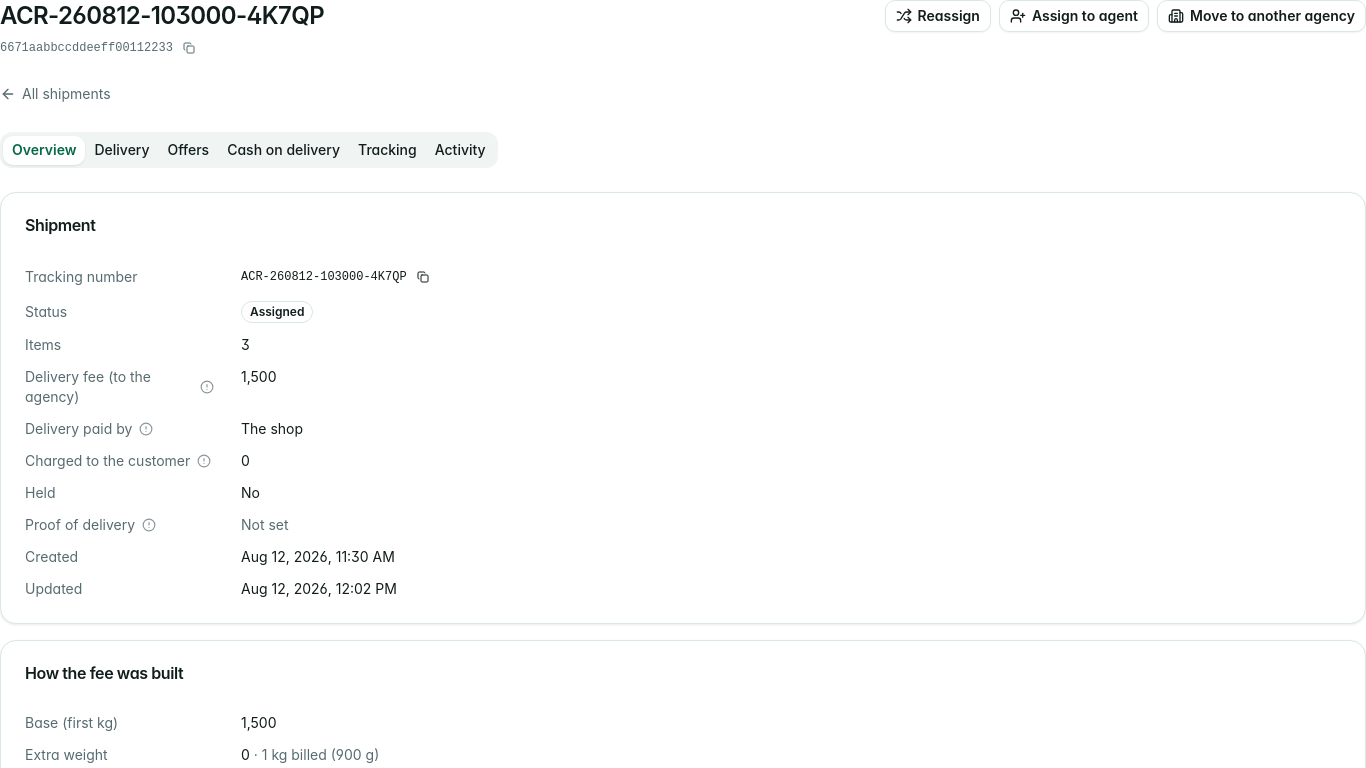
move to another agency › offers "Push anyway" on an inactive destination and sends force: true
Click the button "Move to another agency" at (1262,16), box [1157,0,1365,32]
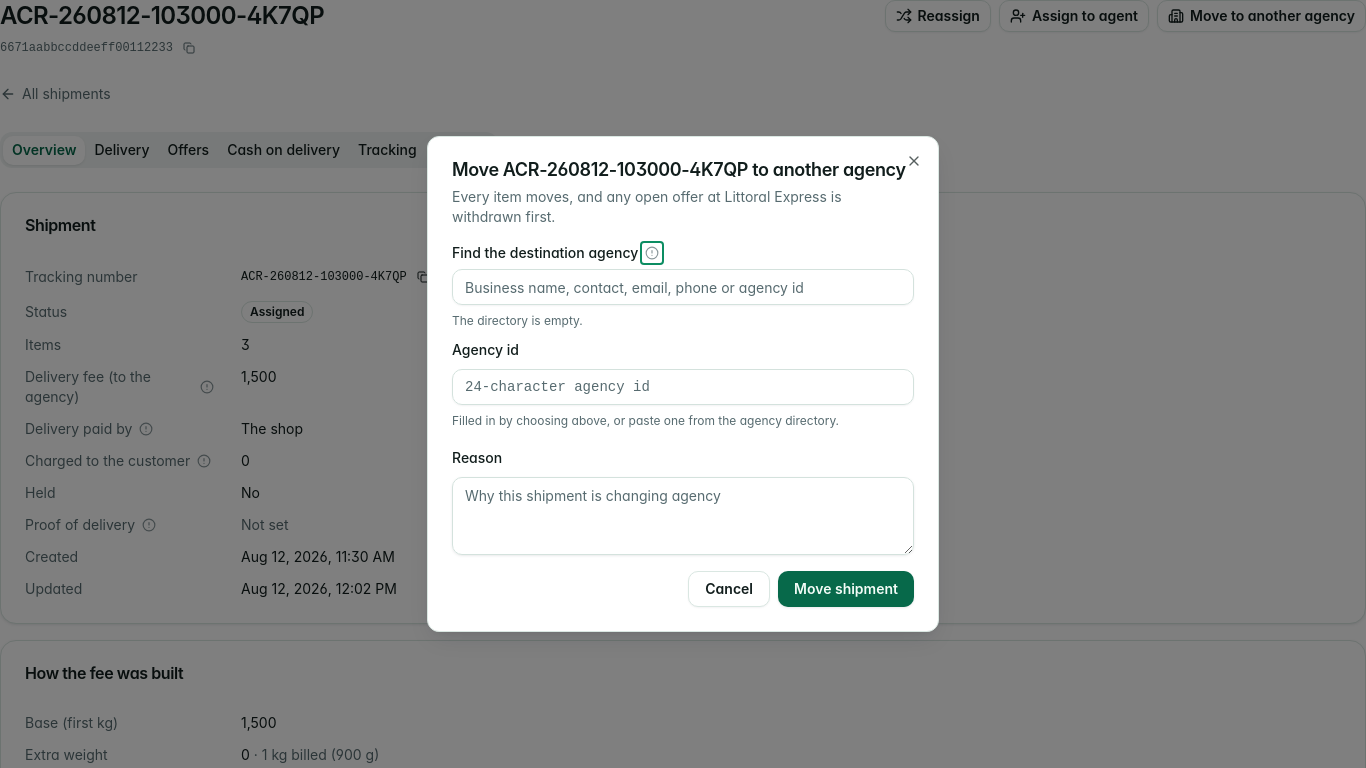
Type "665c0011223344556677eeee" into the field labelled "Agency id" at (683,387), box [452,369,914,405]
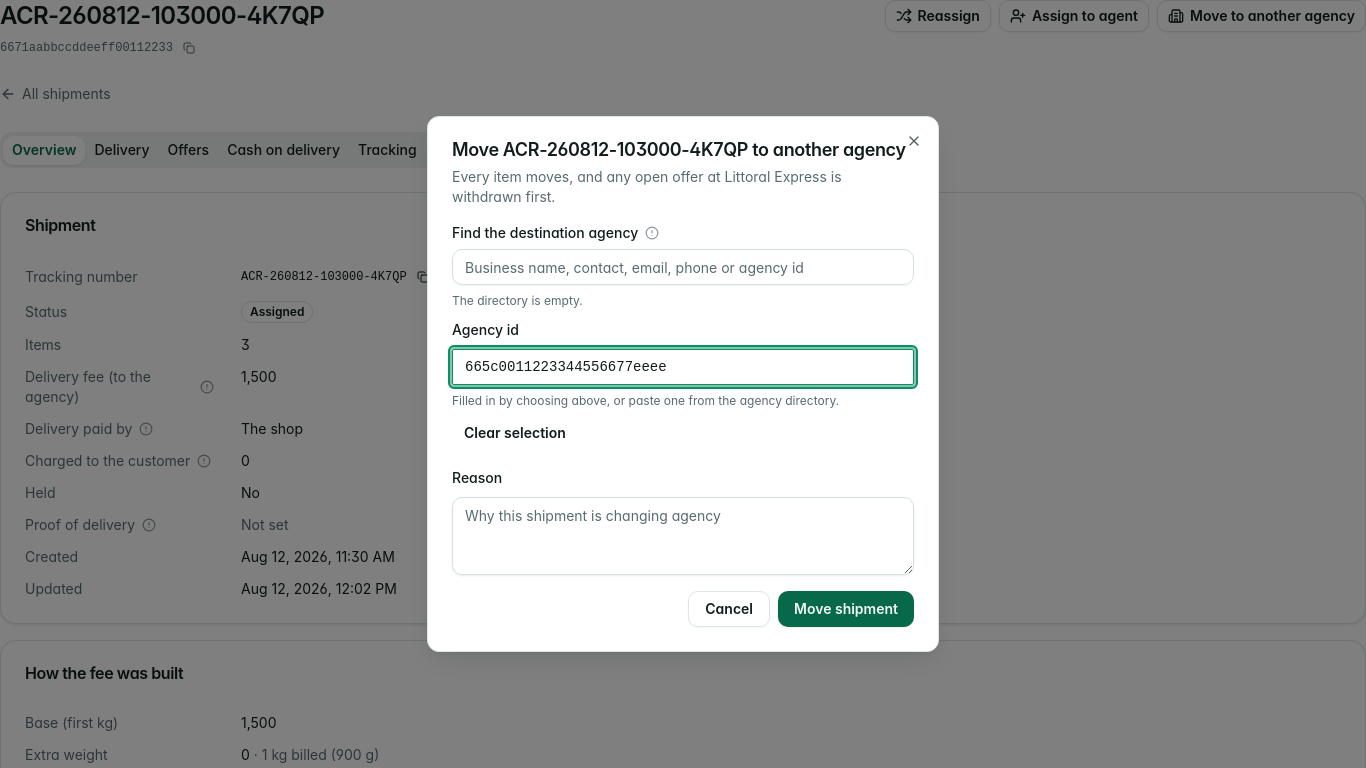
Type "Agency suspended in this city" into the text box labelled "Reason" at (683,536), box [452,497,914,575]
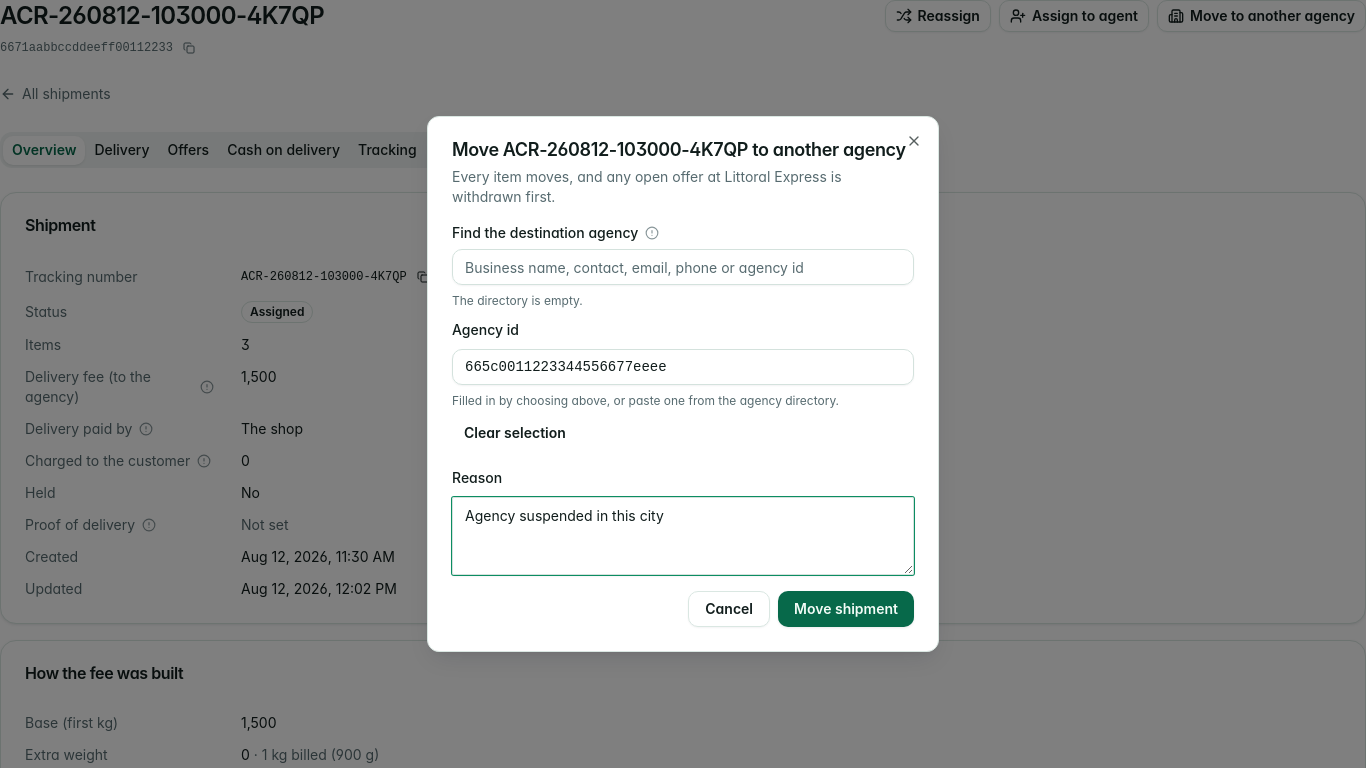
Click the button "Move shipment" at (846,609), box [778,591,914,627]
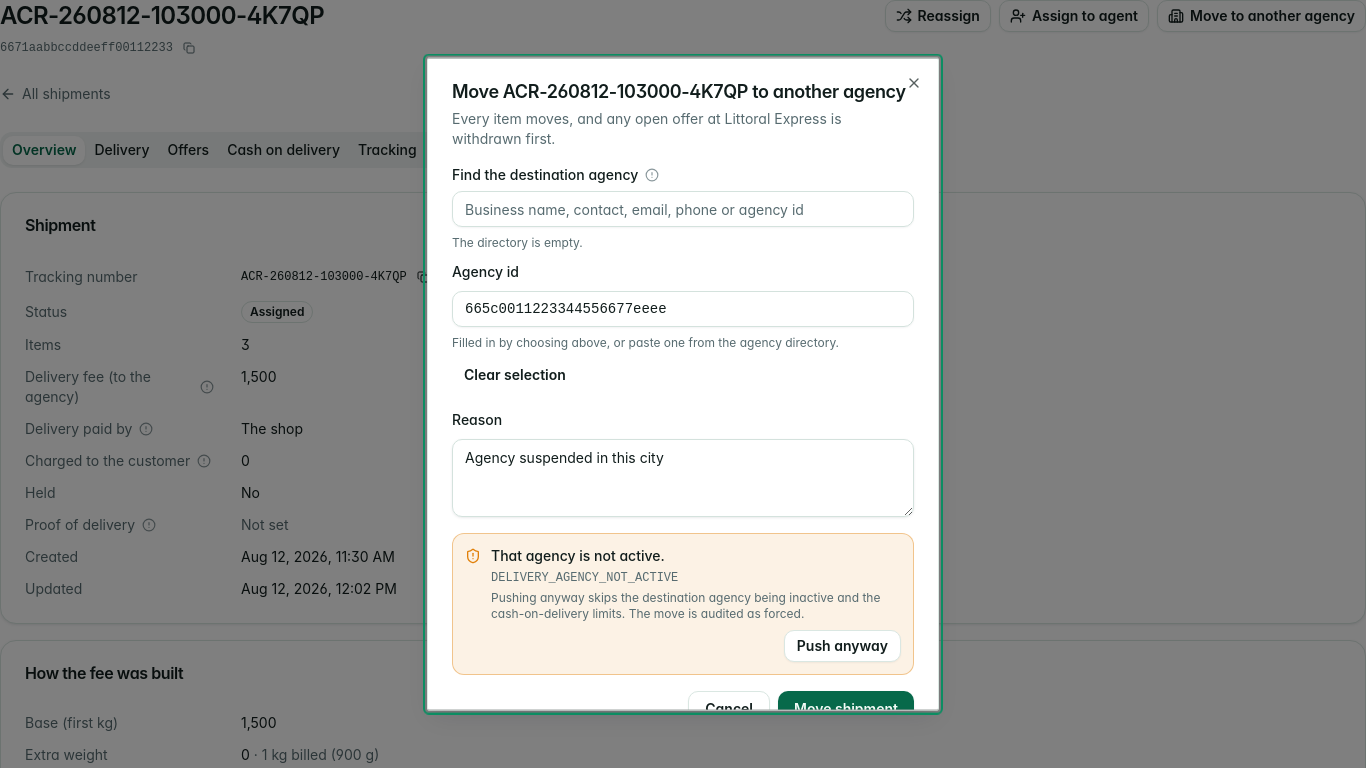
Now the text "That agency is not active." is shown, box [491,547,665,564]
Click the button "Push anyway" at (842,646), box [784,630,901,662]
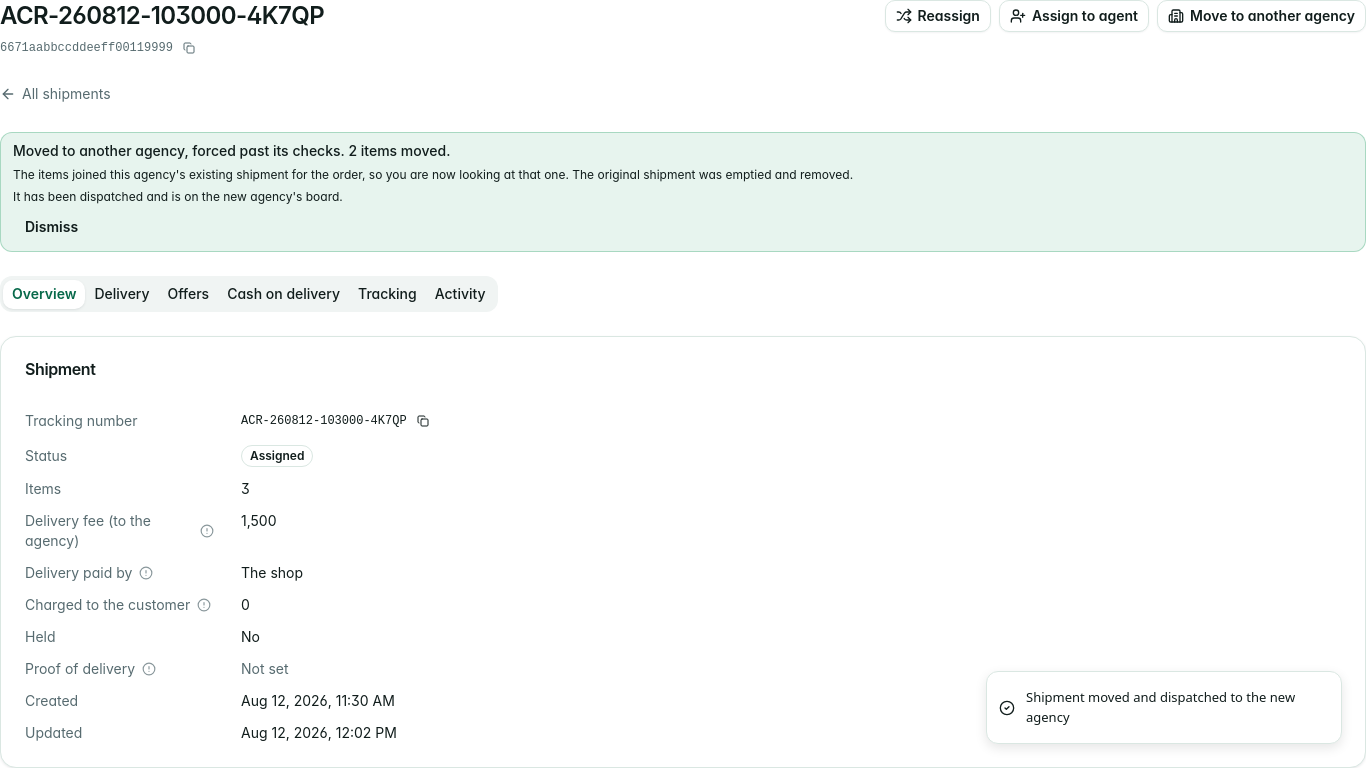
Now the text "forced past its checks" is shown, box [184,142,340,159]
